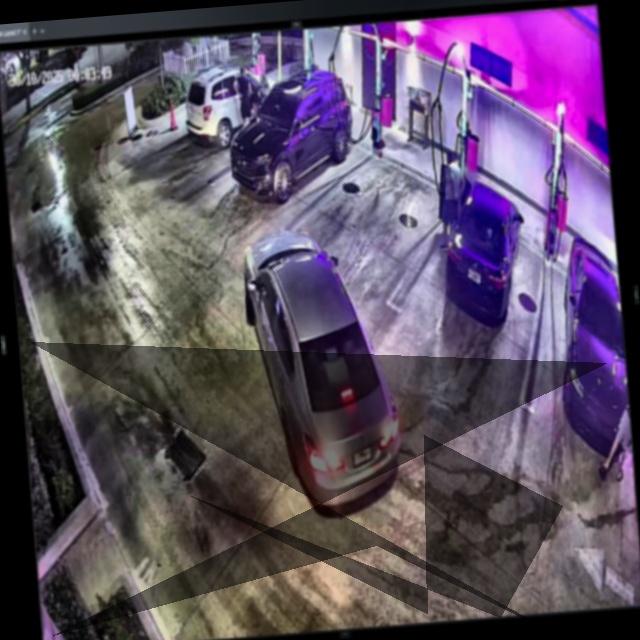Car: (243, 222, 408, 513), (224, 63, 358, 203), (437, 161, 532, 326), (180, 63, 283, 147)
